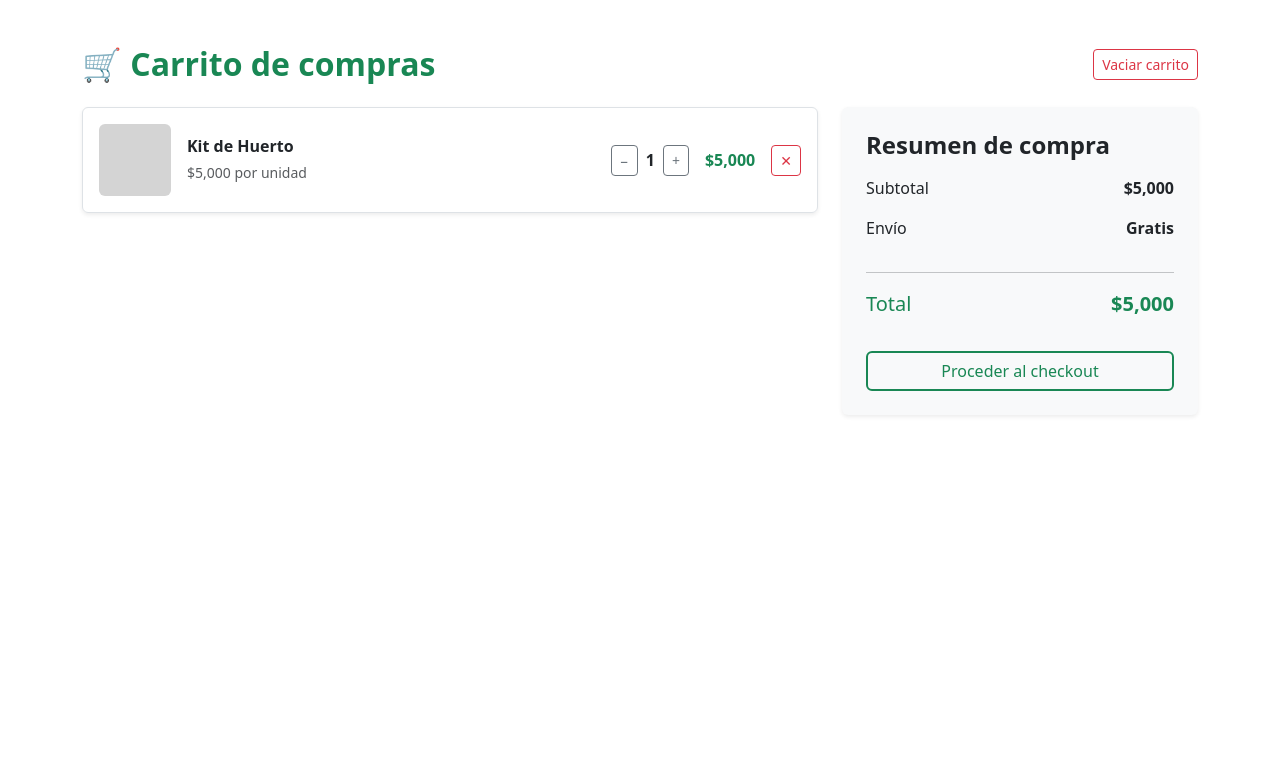
Carrito › rechaza una entrega programada sin fecha válida:
This screenshot has width=1280, height=772.
Click the button "Proceder al checkout" at (1020, 371), box [866,351,1174,391]
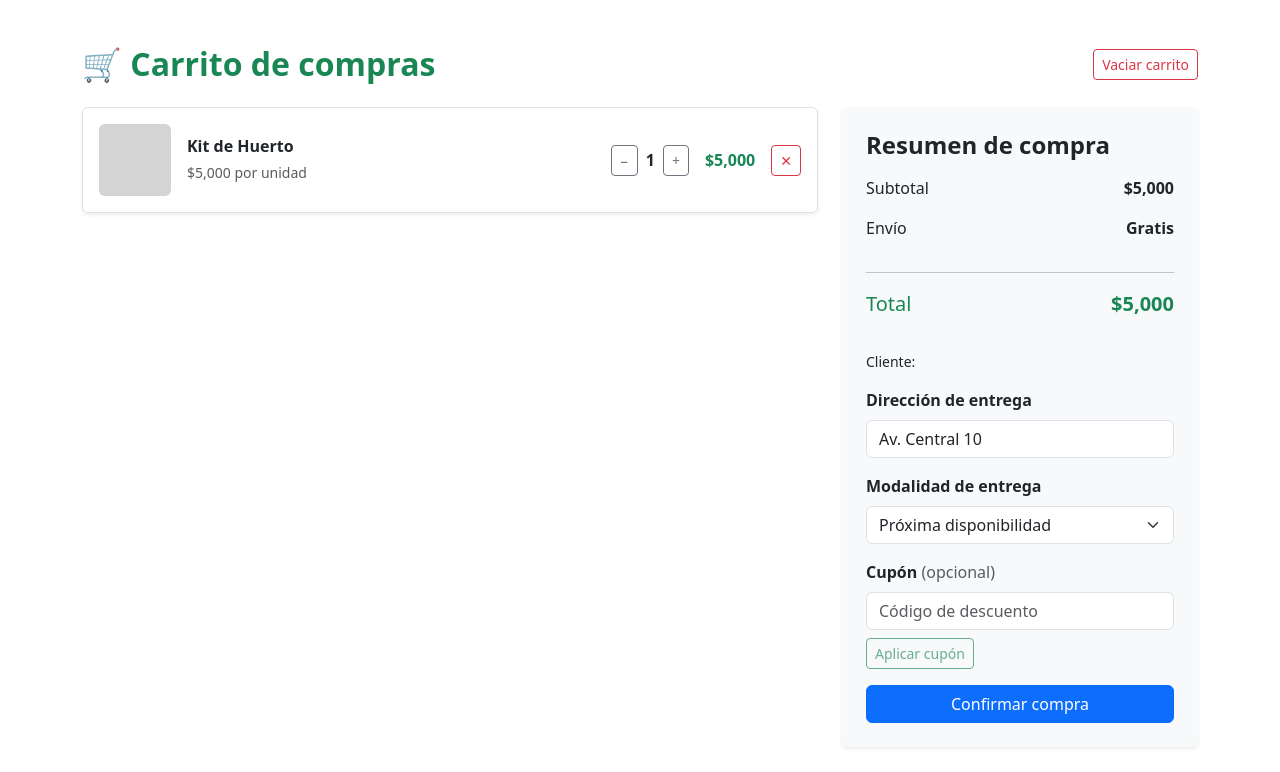
Select "Programar entrega" in the dropdown labelled "Modalidad de entrega" at (1020, 525), box [866,506,1174,544]
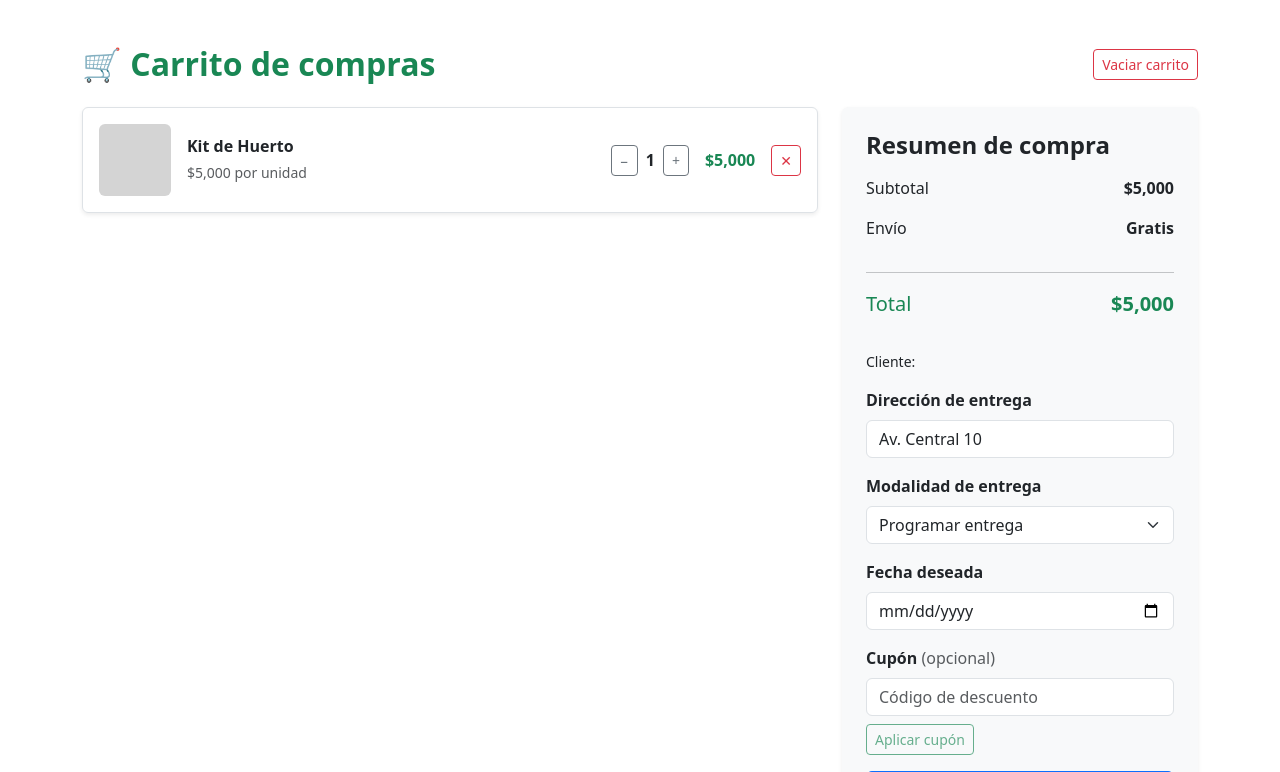
Clear the date field labelled "Fecha deseada" at (1020, 611), box [866,592,1174,630]
(page scrolled)
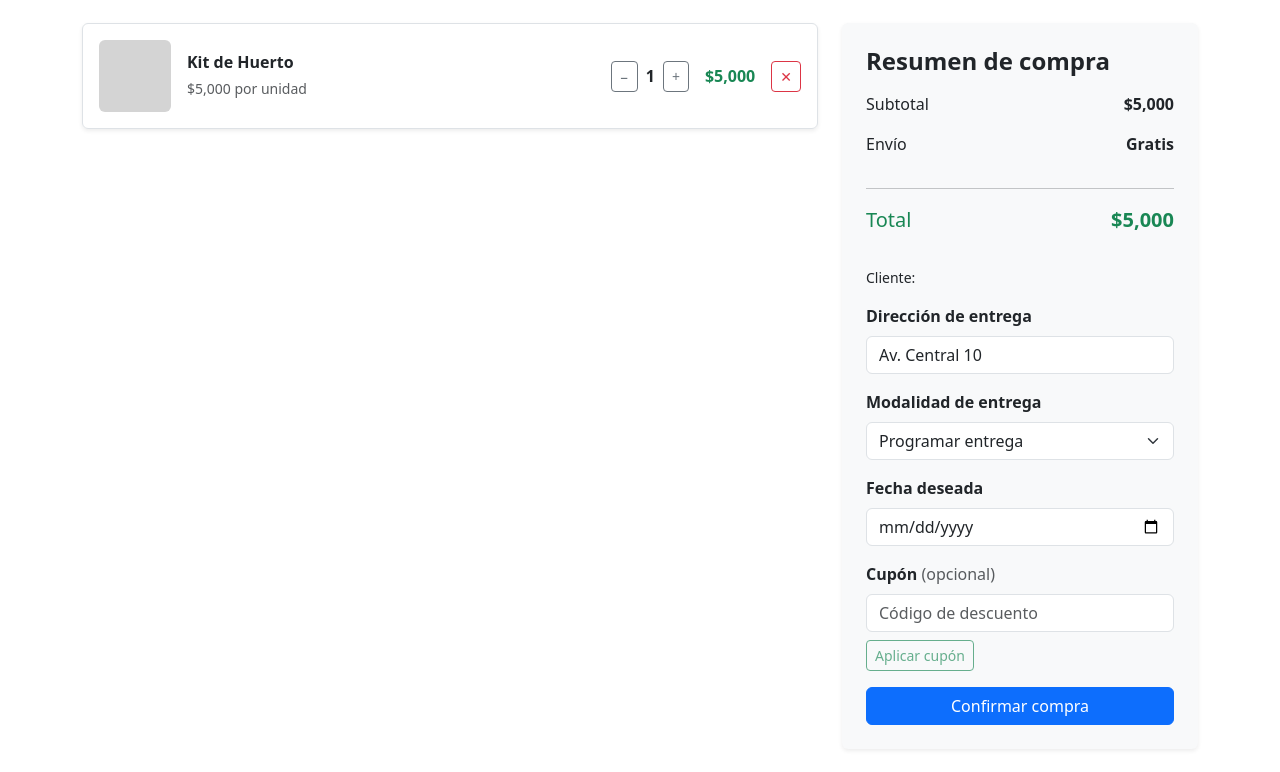
Submit the form named "Confirmar compra", box [866,267,1174,725]
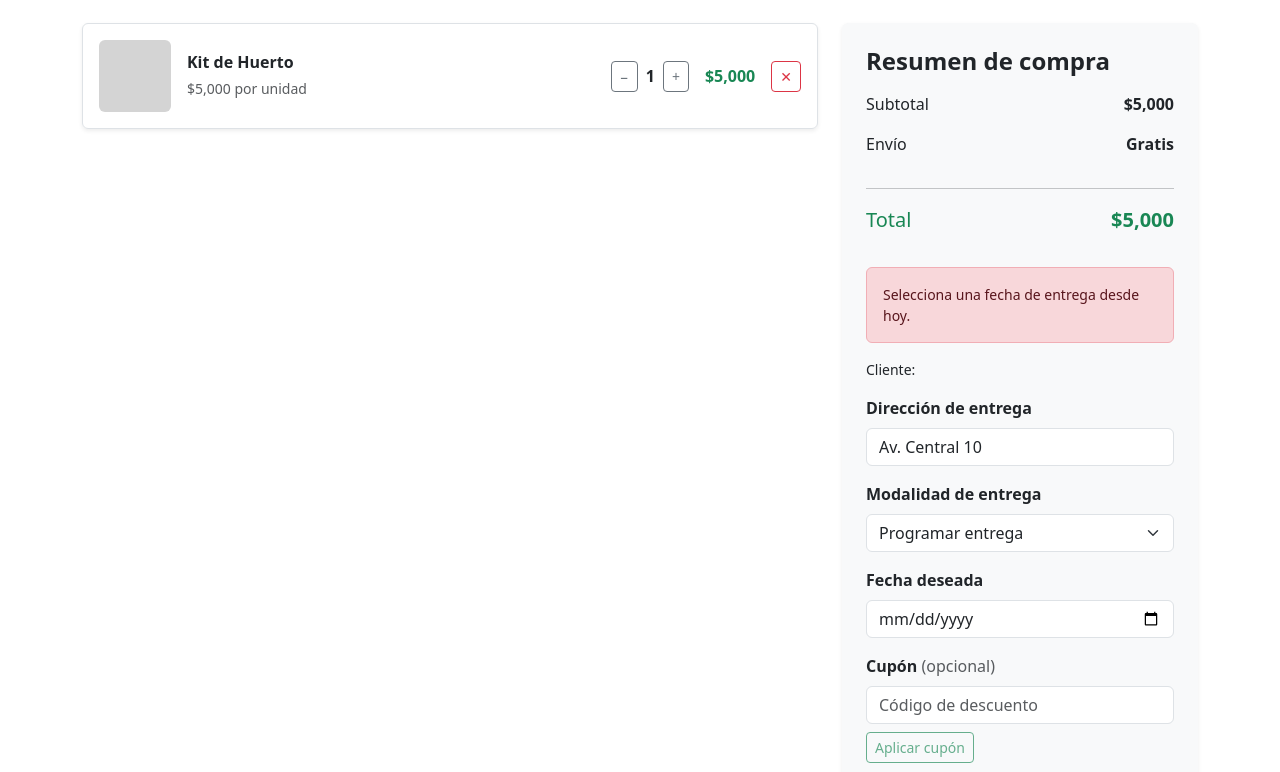
Result: the message reads "Selecciona una fecha de entrega desde hoy." at [883,285,1139,325]
